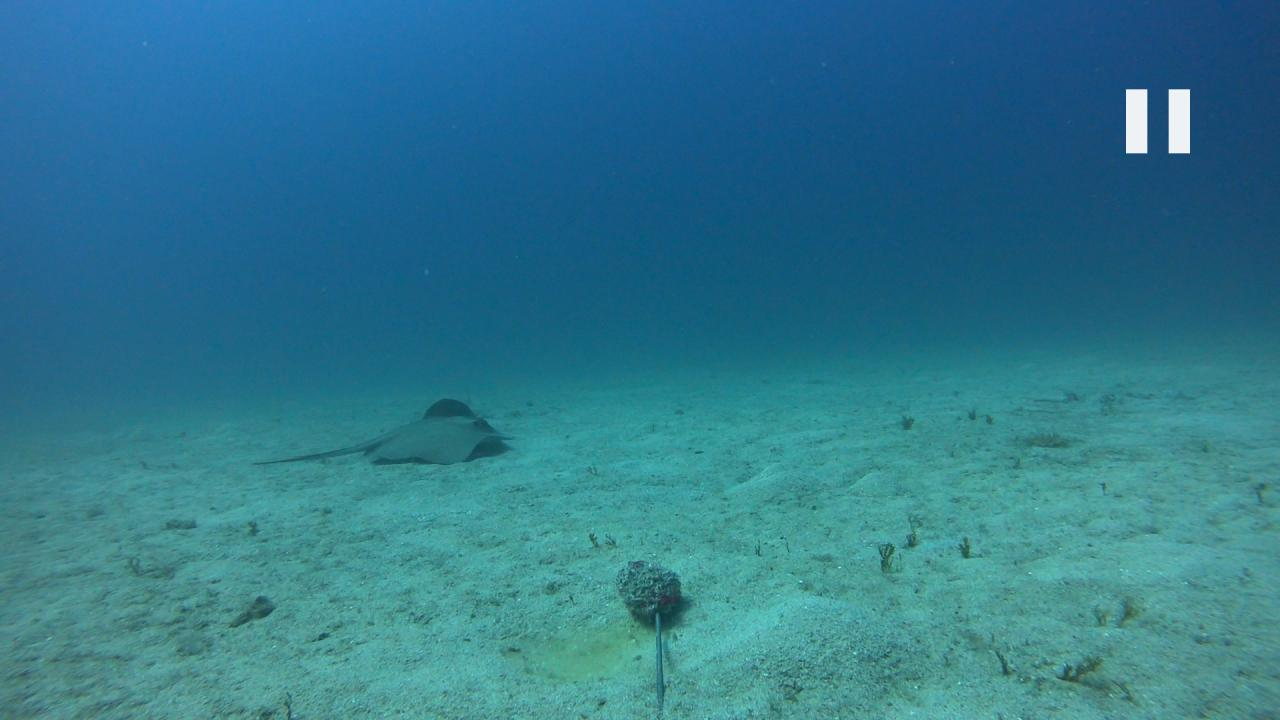bothus: (1020, 432, 1081, 444)
dasyatis: (252, 396, 516, 467)
